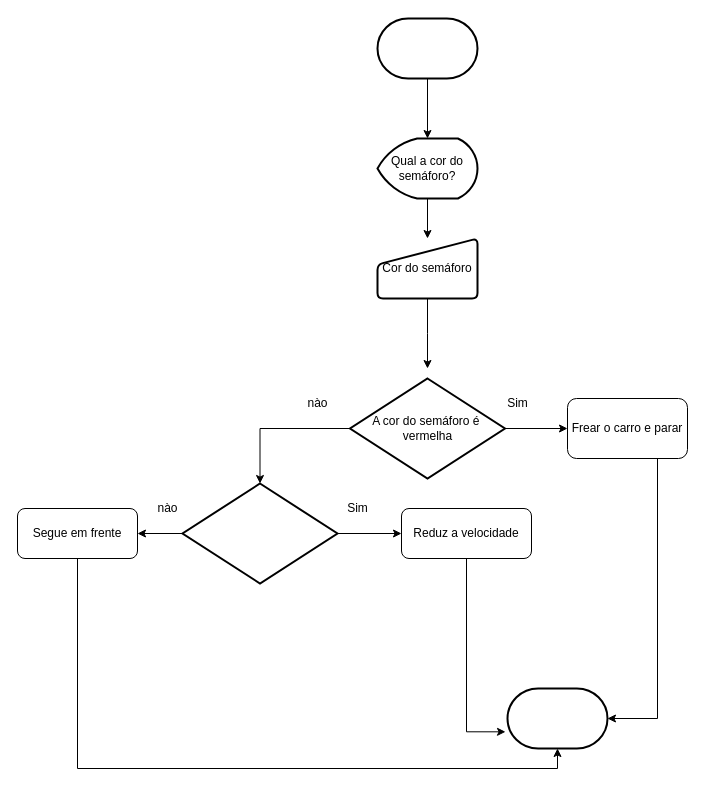
Image size: 705x794. Some labels were removed from this diagram. The centre of each missing label's shape, as x and y in pixels:
"A cor do semáforo é amarelo?" belongs at [259,533].
"Fim" belongs at [557,718].
"Inicio" belongs at [427,48].
